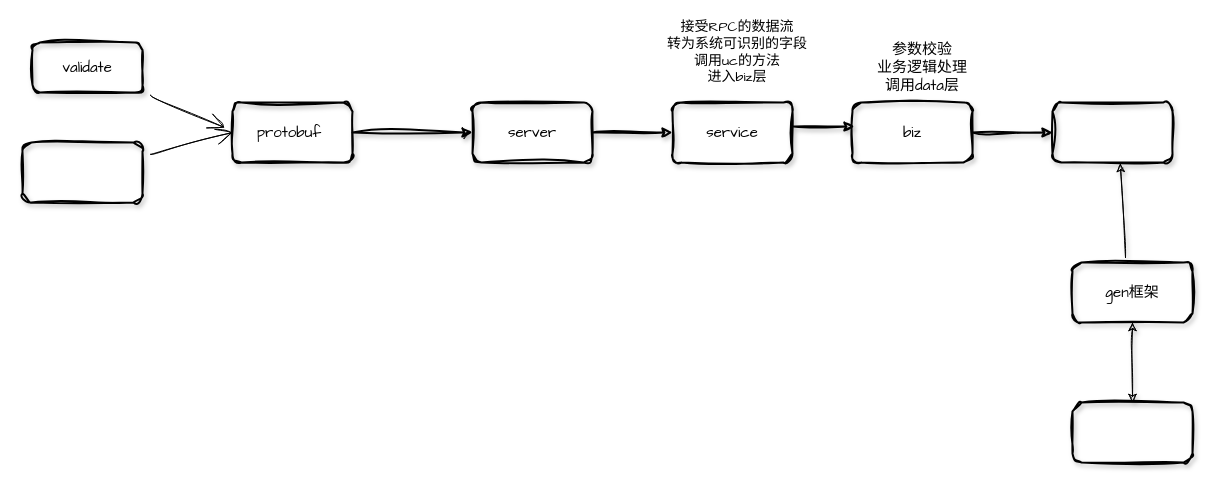
The diagram is 1216 pixels wide and 487 high, and some of its shapes have lost their labels. The shapes that lost their labels are listed below. From the top down, each one's centre as x and y in pixels, then its label:
point (1113, 133): data
point (83, 173): error
point (1133, 433): MySQL数据库
